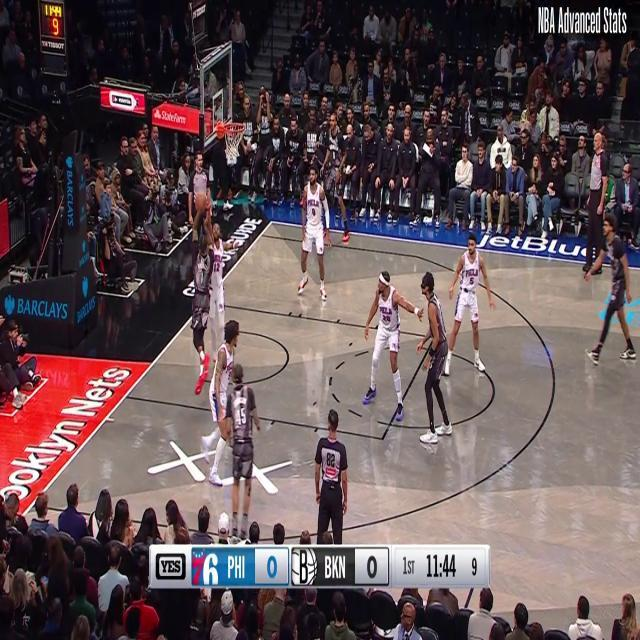ball: (187, 182, 211, 220)
player: (362, 268, 424, 424), (442, 231, 496, 378), (206, 314, 247, 486), (415, 270, 453, 446), (590, 214, 634, 364), (224, 362, 259, 542), (316, 102, 356, 254), (203, 198, 232, 392), (186, 204, 214, 400), (296, 162, 332, 304)
